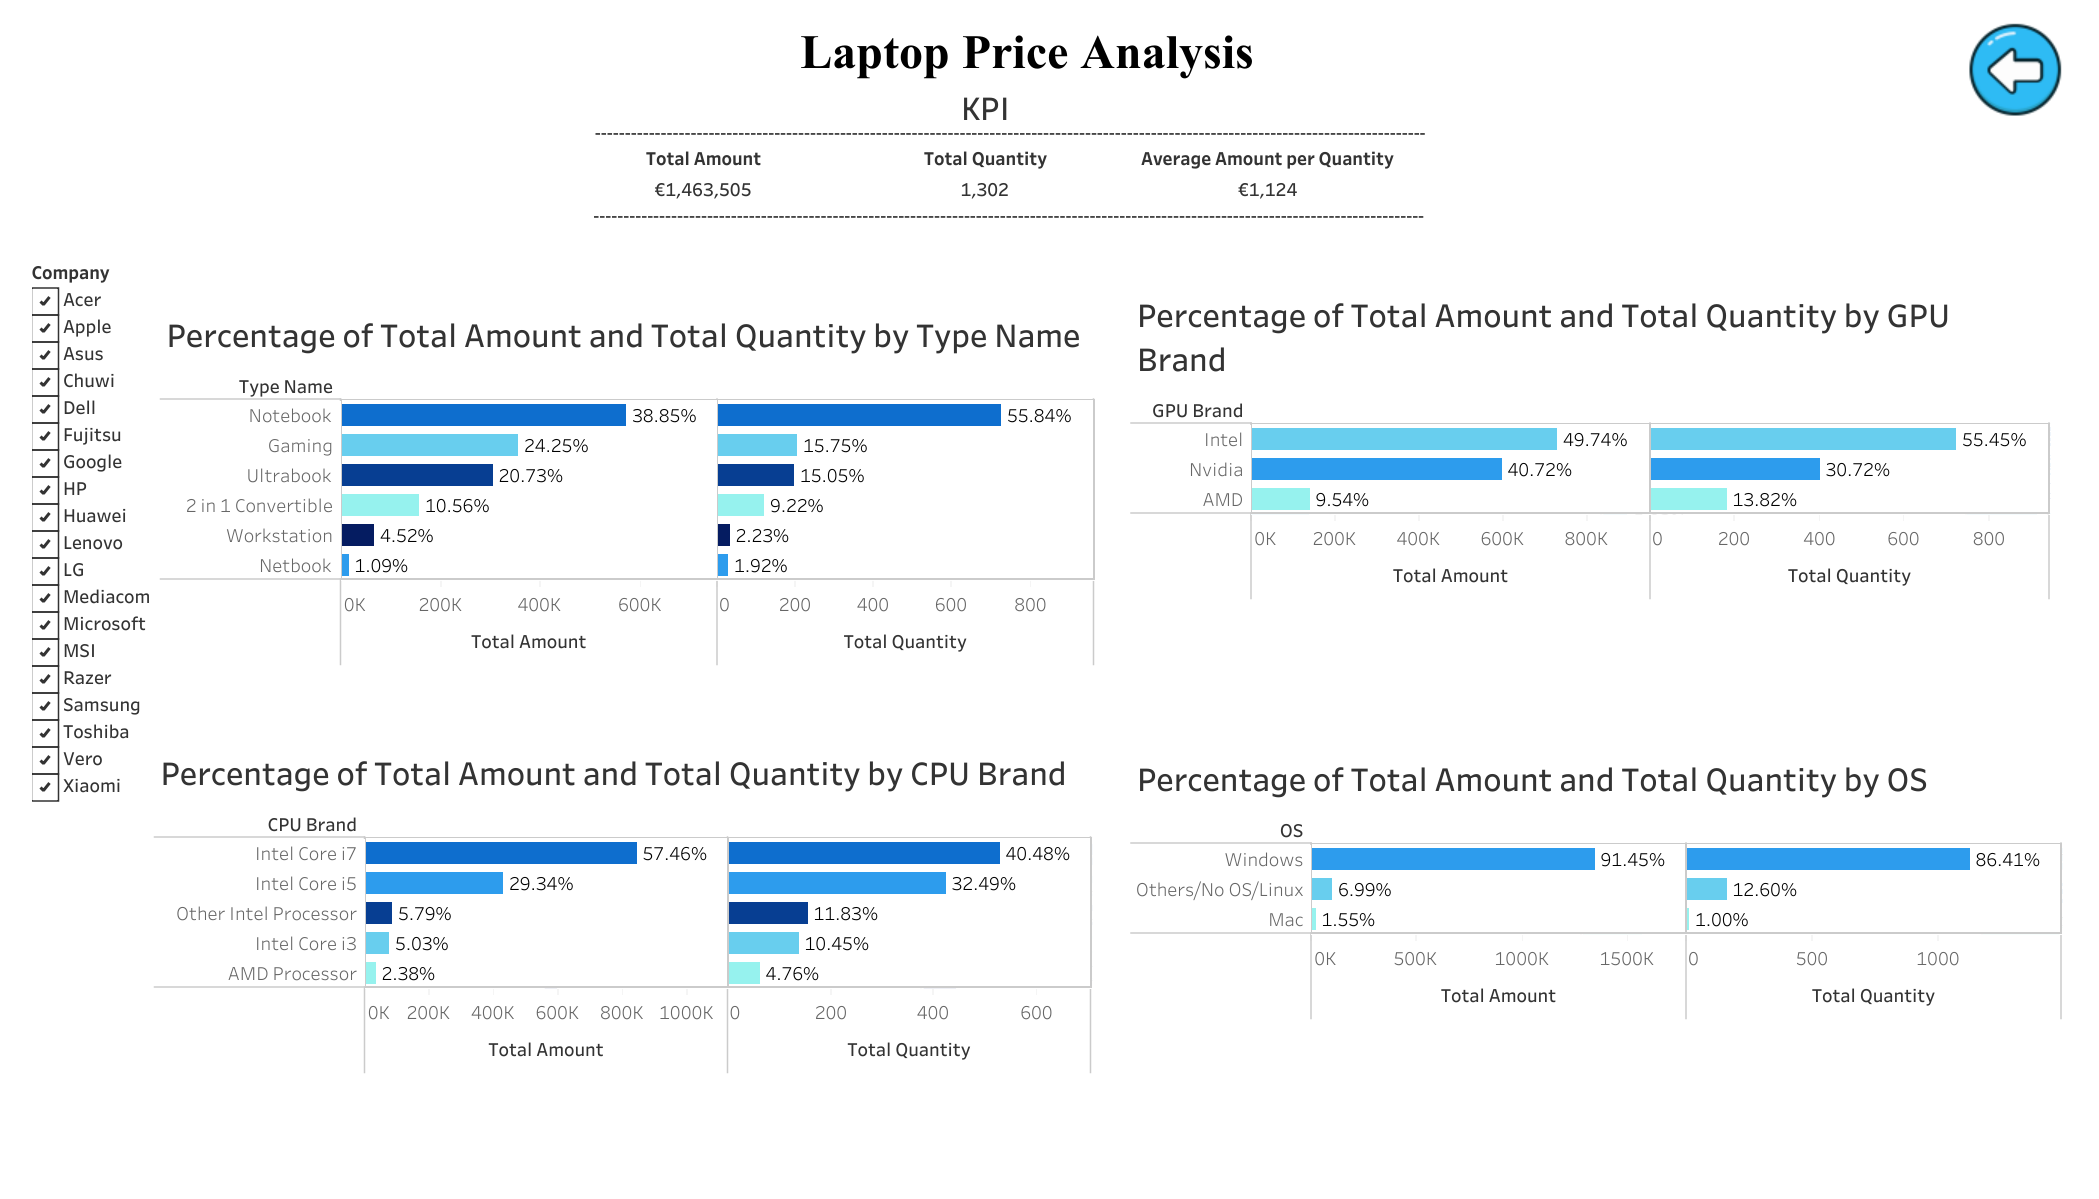

The dashboard page shown, as its layout file describes it:
{"tool":"tableau","page":{"name":"Performance Metrics","canvas":[1400,800],"ordinal":1},"visuals":[{"type":"dashboard-object","box":[1311,13,66,65]},{"type":"text","box":[531,16,308,36]},{"type":"worksheet","title":"KPI","mark":"Automatic","box":[375,51,569,95]},{"type":"text","box":[394,73,566,30]},{"type":"text","box":[393,128,566,30]},{"type":"filter","title":"KPI","param":"[federated.0h3ya8o04ch4vb1gx1bs51kiau0g].[none:Company:nk]","box":[21,171,122,435]},{"type":"worksheet","title":"Percentage of Total Amount and Total Quantity by GPU Brand","mark":"Automatic","rows":["GPU Brand"],"cols":["Calculation_15058919721685110","Calculation_15058919721767031"],"box":[754,189,614,282]},{"type":"worksheet","title":"Percentage of Total Amount and Total Quantity by Type Name","mark":"Automatic","rows":["TypeName"],"cols":["Calculation_15058919721685110","Calculation_15058919721767031"],"box":[107,202,623,266]},{"type":"worksheet","title":"Percentage of Total Amount and Total Quantity by CPU Brand","mark":"Automatic","rows":["CPU Brand"],"cols":["Calculation_15058919721685110","Calculation_15058919721767031"],"box":[103,494,625,263]},{"type":"worksheet","title":"Percentage of Total Amount and Total Quantity by OS","mark":"Automatic","rows":["OS"],"cols":["Calculation_15058919721685110","Calculation_15058919721767031"],"box":[754,498,622,259]}]}

Visuals, with their boxes in screenshot pixels (x1, y1, x2, y2), scaled from the page's 1400x800 canvas onto the 2099x1199 screenshot:
dashboard-object: x1=1966 y1=19 x2=2065 y2=117
text: x1=796 y1=24 x2=1258 y2=78
"KPI" worksheet: x1=562 y1=76 x2=1415 y2=219
text: x1=591 y1=109 x2=1439 y2=154
text: x1=589 y1=192 x2=1438 y2=237
"KPI" filter: x1=31 y1=256 x2=214 y2=908
"Percentage of Total Amount and Total Quantity by GPU Brand" worksheet: x1=1130 y1=283 x2=2051 y2=706
"Percentage of Total Amount and Total Quantity by Type Name" worksheet: x1=160 y1=303 x2=1094 y2=701
"Percentage of Total Amount and Total Quantity by CPU Brand" worksheet: x1=154 y1=740 x2=1091 y2=1135
"Percentage of Total Amount and Total Quantity by OS" worksheet: x1=1130 y1=746 x2=2063 y2=1135
